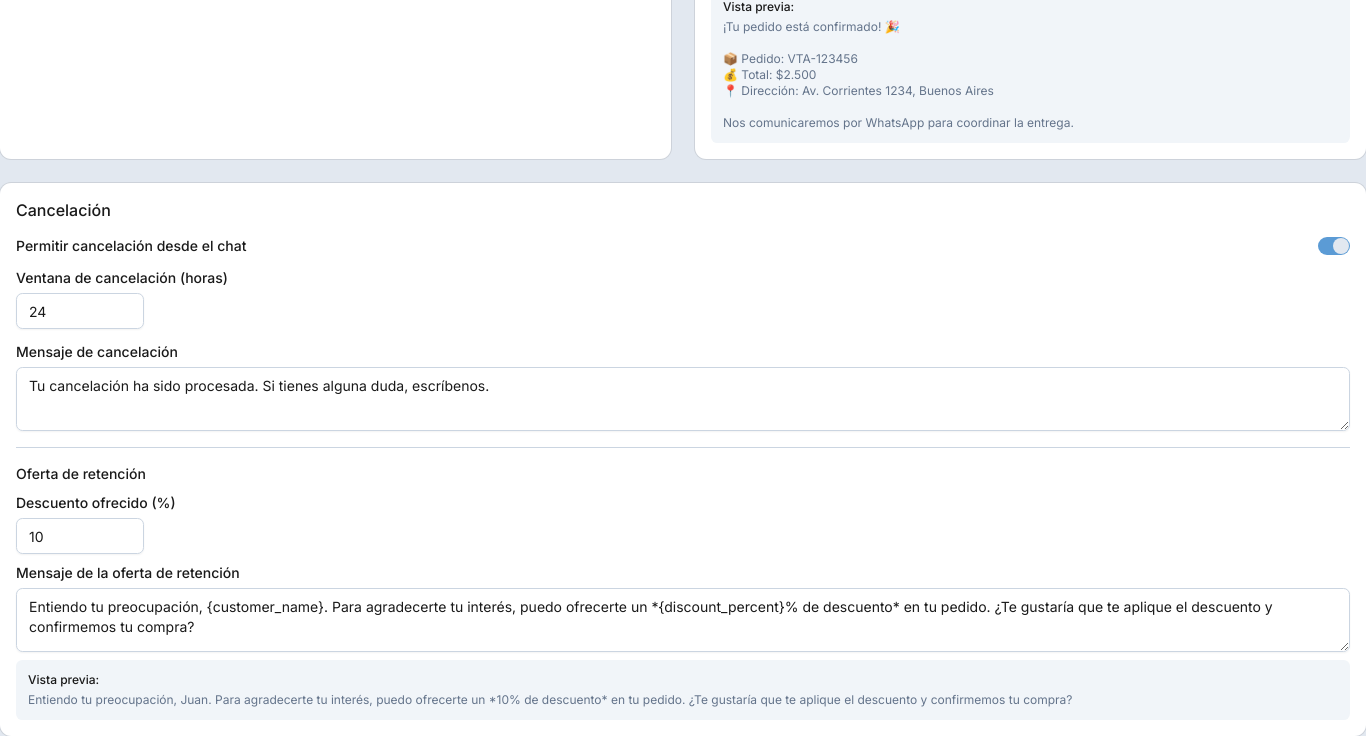
Test: SalesConfigForm — policy de retención (T1-1) › clampea el percent dentro del rango 5..20 en la UI
The image size is (1366, 736).
(page scrolled)
Replace the text in the number field labelled "Descuento ofrecido (%)" with "99" at (80, 536), box x1=16 y1=518 x2=144 y2=554
(page scrolled)
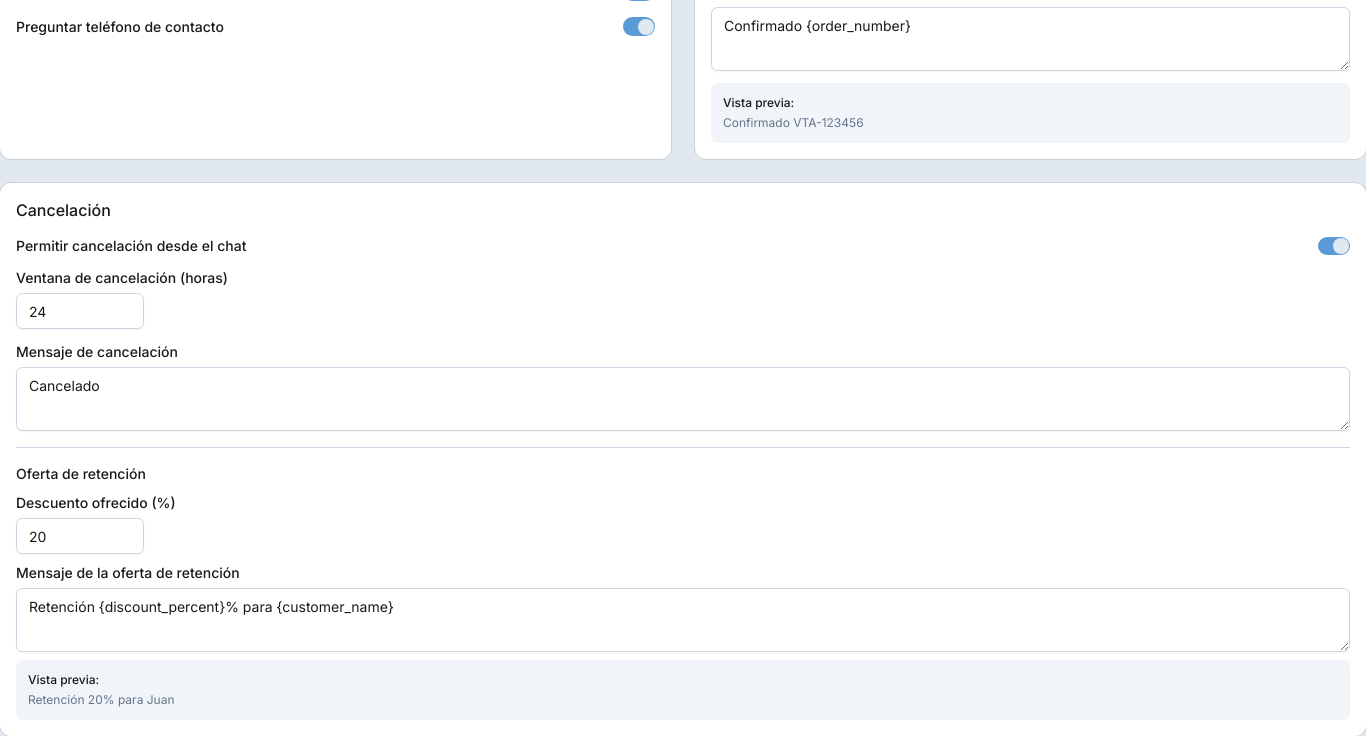
Expected: the number field labelled "Descuento ofrecido (%)" holds "20"
Replace the text in the number field labelled "Descuento ofrecido (%)" with "1" at (80, 536), box x1=16 y1=518 x2=144 y2=554
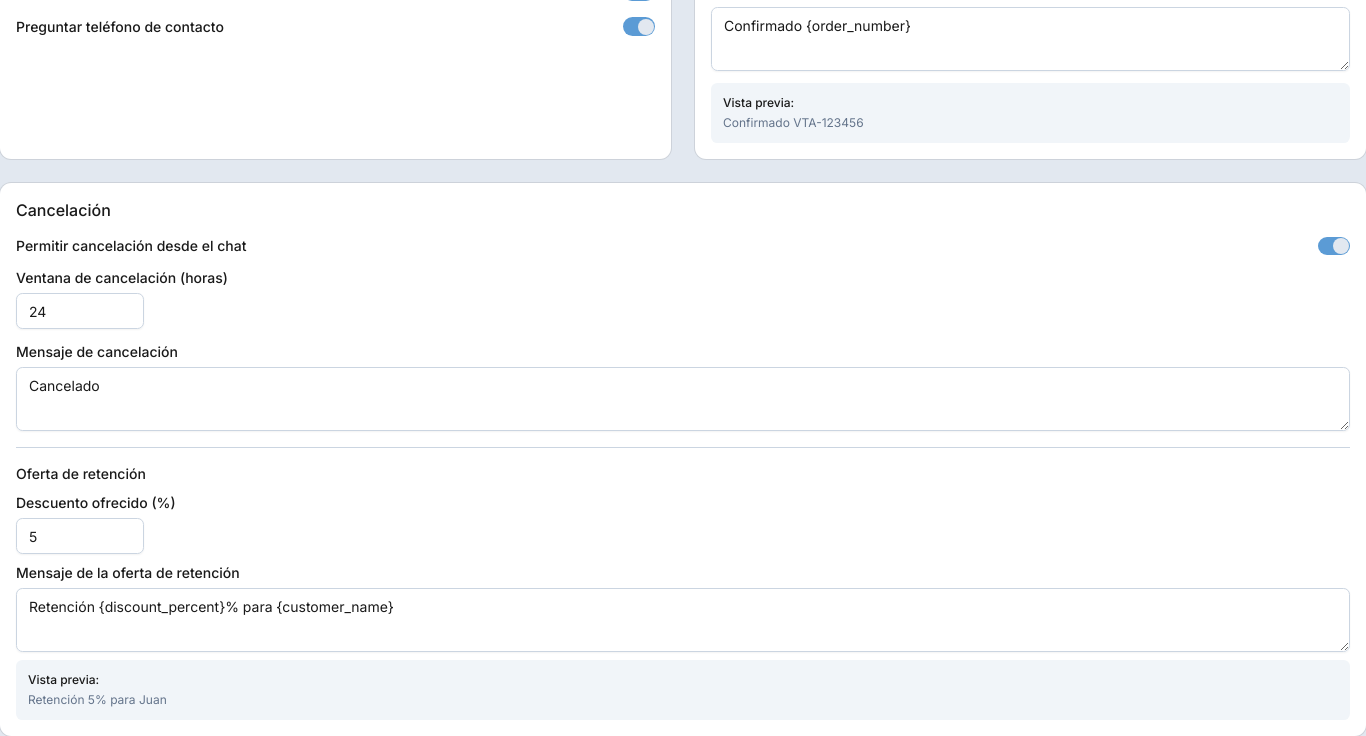
Expected: the number field labelled "Descuento ofrecido (%)" holds "5", x1=16 y1=518 x2=144 y2=554
